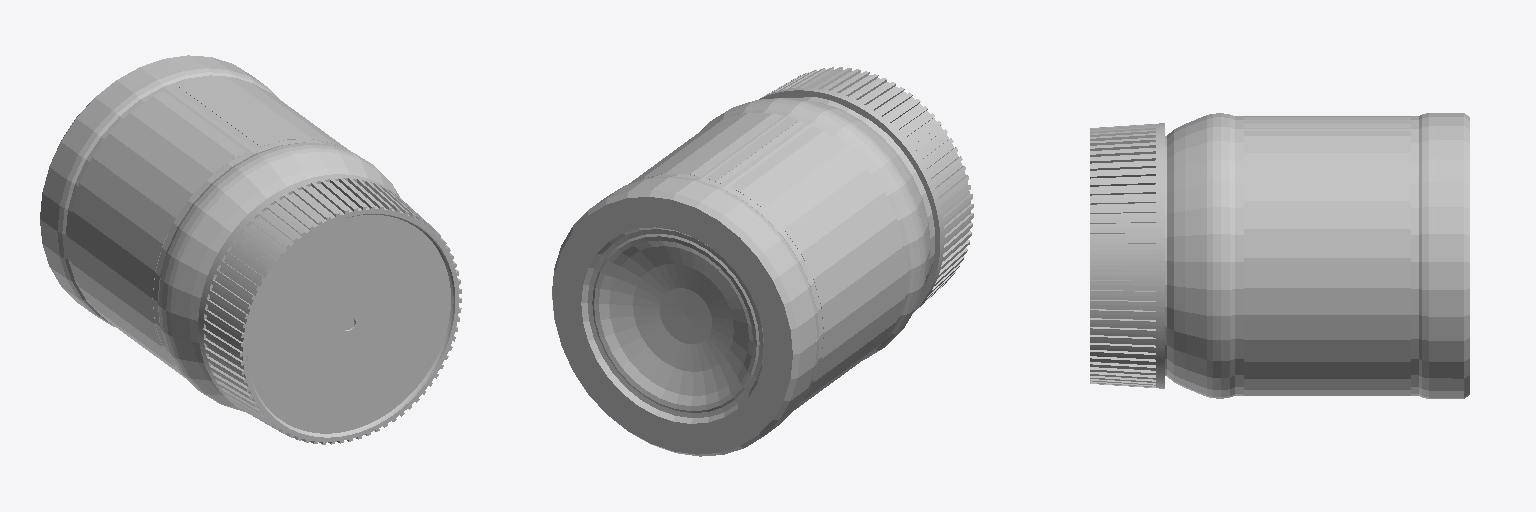
The model's file is butter.obj.
3 views of the same model, side by side, from view 1: azimuth 30°, elevation 25°; view 2: azimuth 150°, elevation 25°; view 3: azimuth 270°, elevation 25° (orthographic).
Visible parts, largest first — view 1: cap_pivot, sticker_pivot, can_pivot; view 2: can_pivot, sticker_pivot, cap_pivot; view 3: sticker_pivot, can_pivot, cap_pivot.
Boxes of the visible parts, <box> form: cap_pivot: <box>198,174,461,444</box>; sticker_pivot: <box>69,78,349,377</box>; can_pivot: <box>40,55,399,411</box>; can_pivot: <box>552,96,934,456</box>; sticker_pivot: <box>628,113,907,409</box>; cap_pivot: <box>759,67,973,312</box>; sticker_pivot: <box>1244,116,1410,395</box>; can_pivot: <box>1165,113,1469,398</box>; cap_pivot: <box>1090,123,1164,388</box>.
Size of the model in its own units: 7.2 by 7.2 by 9.56.